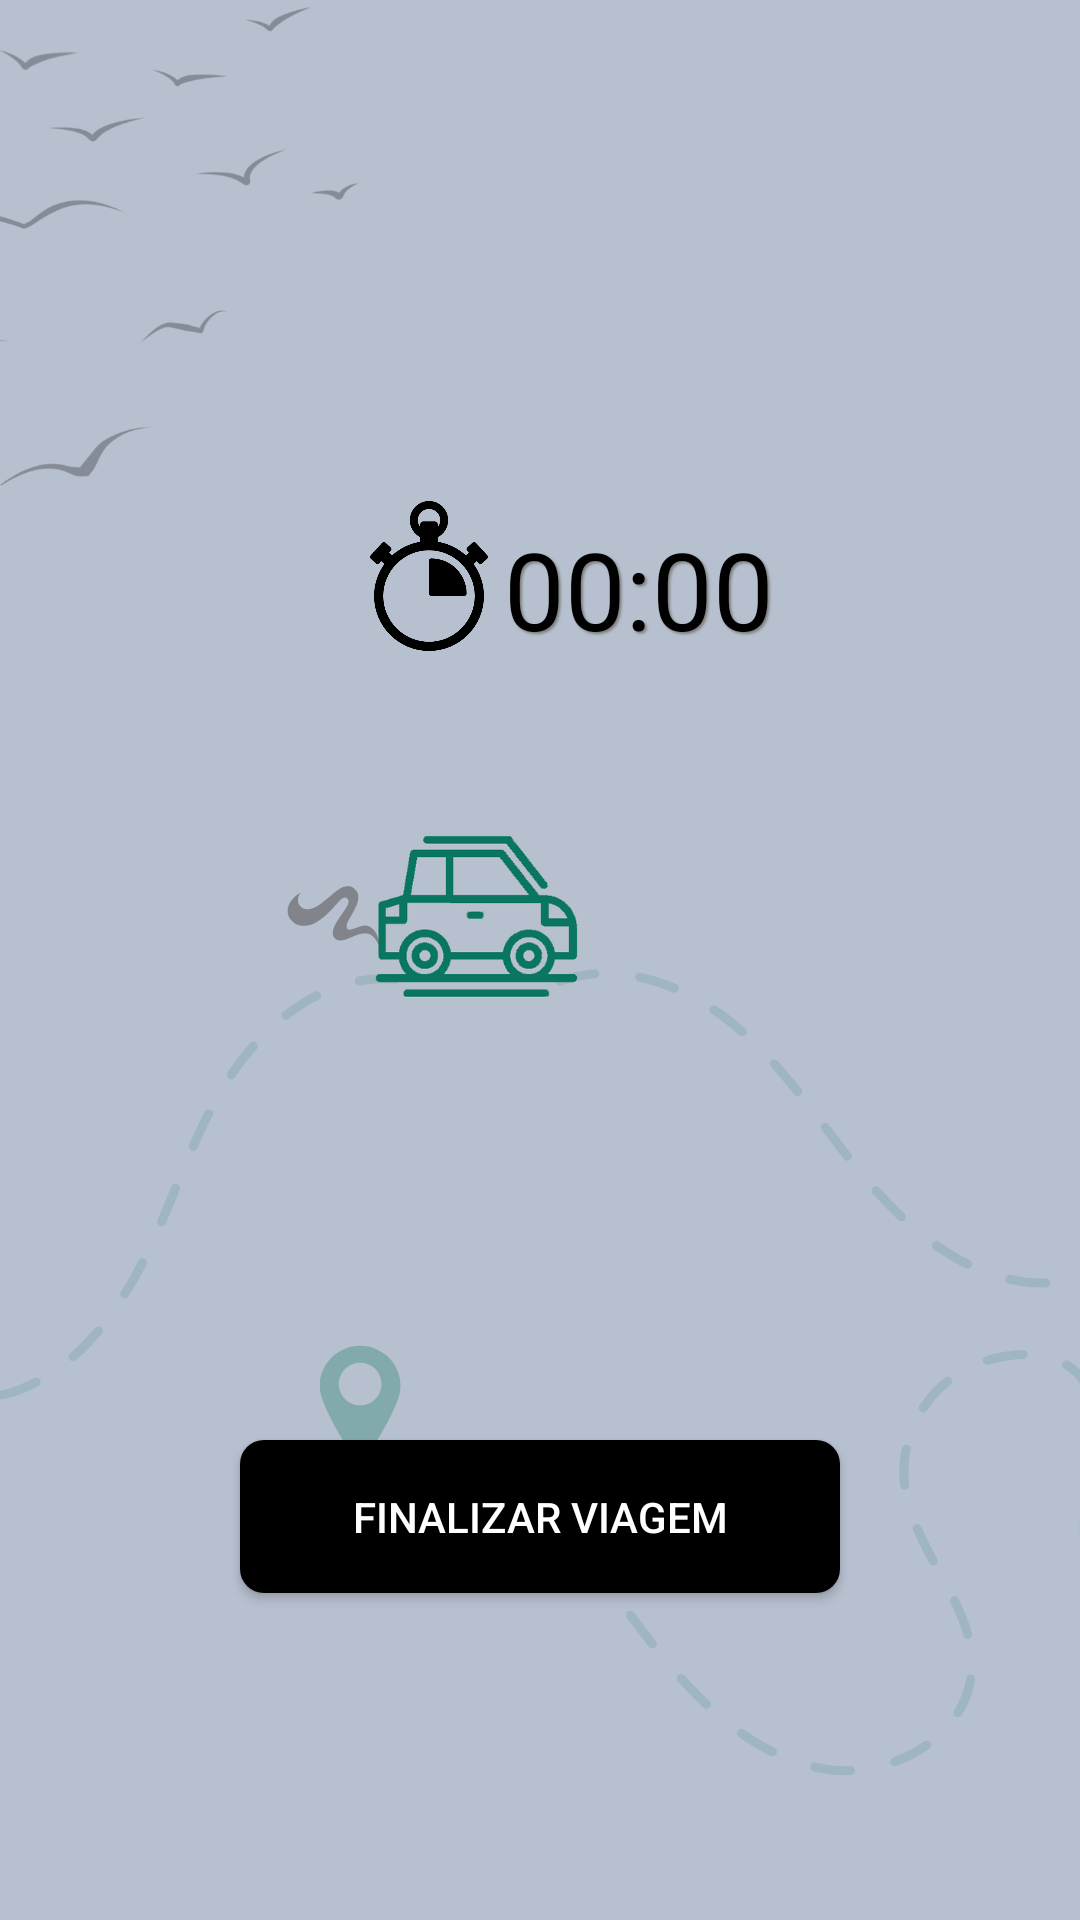

Icons on this 1080px x 1920px Android screen, each with the point to tap as (x,y):
cronometro: (429,576)
